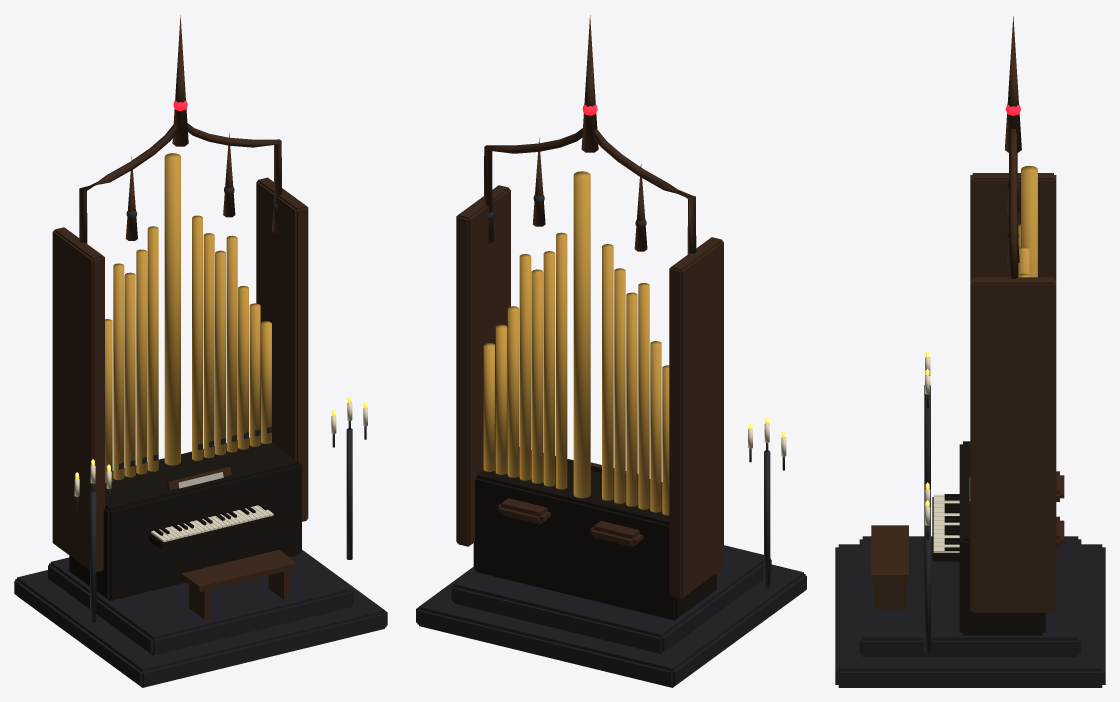
The model's file is gothic-organ.glb.
The picture shows the model from 3 angles, left to right: view 1: azimuth 30°, elevation 25°; view 2: azimuth 150°, elevation 25°; view 3: azimuth 270°, elevation 25°; orthographic projection. The views are drawn at different scales.
Parts seen in each view (by area): view 1: Model Mesh; view 2: Model Mesh, Pump 0 Mesh, Pump 1 Mesh; view 3: Model Mesh.
Part boxes in pixels (x1=…): Model Mesh: x1=14, y1=15, x2=387, y2=687; Model Mesh: x1=416, y1=15, x2=806, y2=687; Pump 0 Mesh: x1=497, y1=498, x2=550, y2=524; Pump 1 Mesh: x1=590, y1=521, x2=643, y2=546; Model Mesh: x1=835, y1=16, x2=1105, y2=687.
Size of the model in its own units: 3.31 by 6.3 by 2.52.
